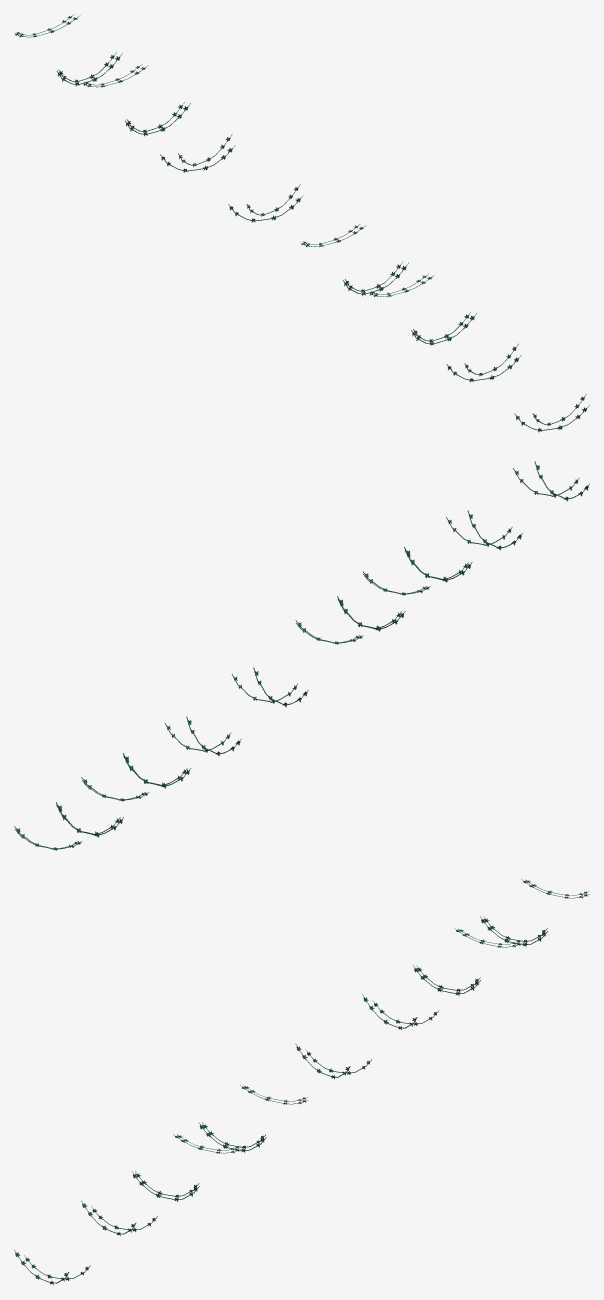
Rendered from LIANA.fbx.
3 views of the same model, one above another, from view 1: azimuth 30°, elevation 25°; view 2: azimuth 150°, elevation 25°; view 3: azimuth 330°, elevation 25° (orthographic).
Parts seen in each view (by area): view 1: BézierCurve; view 2: BézierCurve; view 3: BézierCurve.
Part boxes in pixels (x1,y1,x2,y2): BézierCurve: [14, 14, 589, 432]; BézierCurve: [14, 461, 589, 850]; BézierCurve: [14, 879, 589, 1285].
Size of the model in its own units: 1782 by 688 by 21314.
